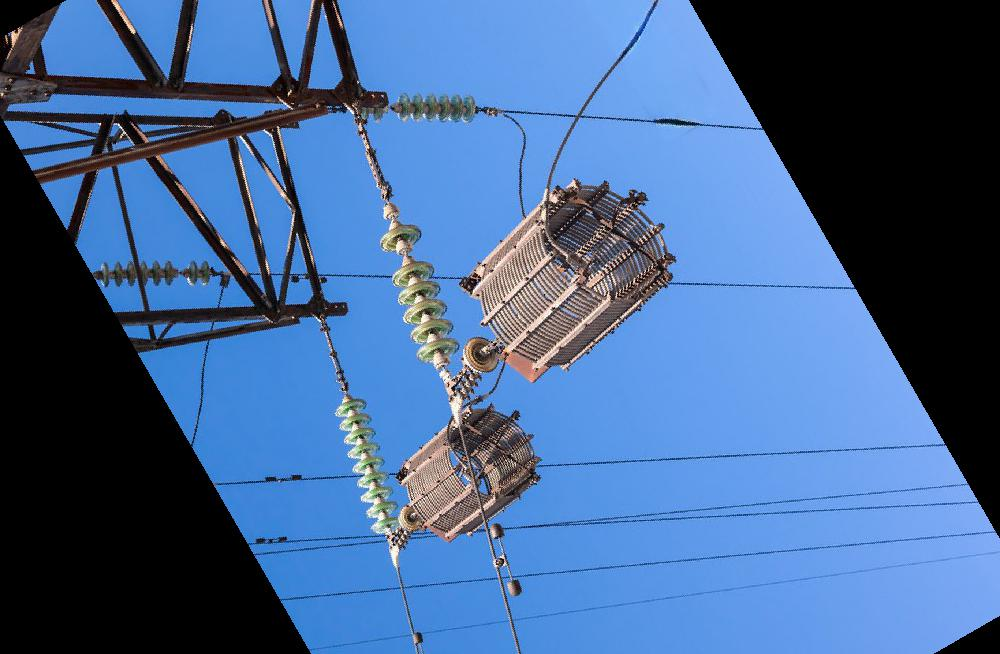insulator: (376, 224, 462, 369), (331, 396, 406, 540), (96, 255, 214, 290), (393, 88, 480, 128)
insulator_stringdrop: (375, 220, 438, 288), (159, 258, 202, 291)
